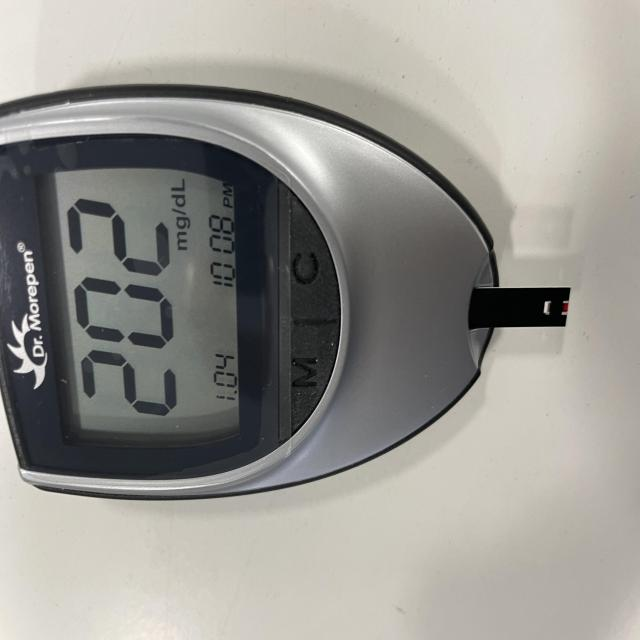gluco: (0, 82, 540, 503)
